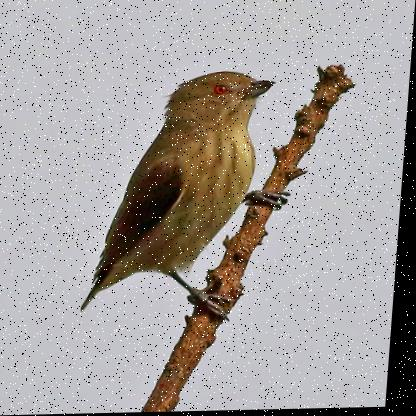Burung: (74, 69, 297, 323)
